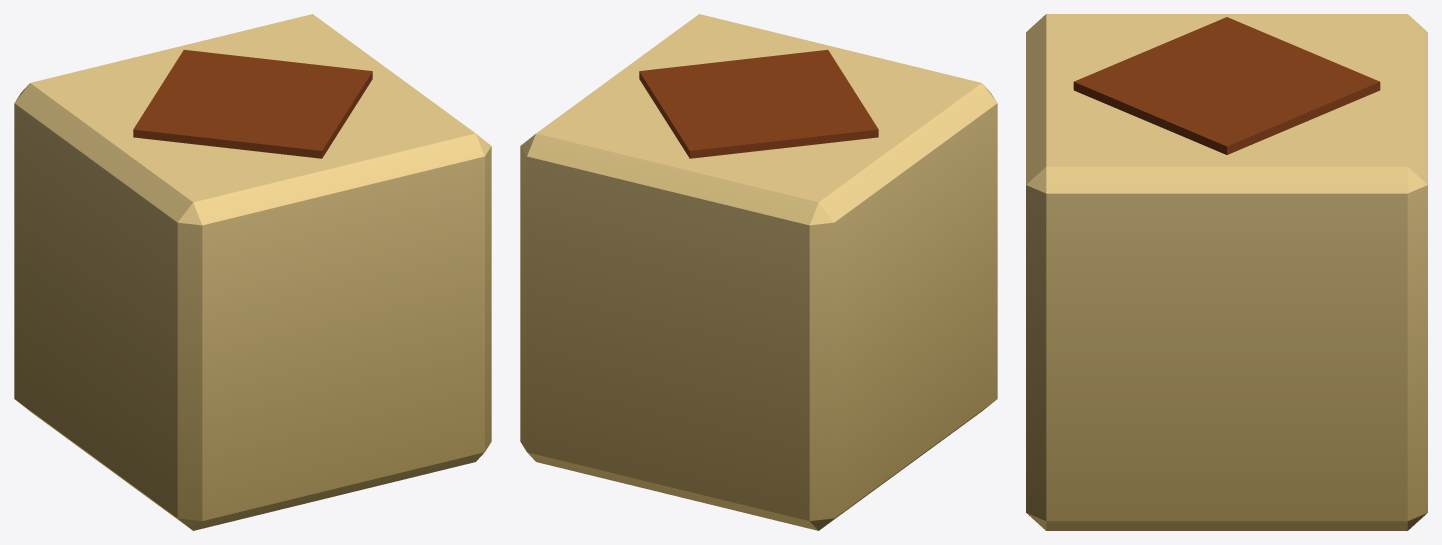
Rendered from Tile_PutihPlate.fbx.
The picture shows the model from 3 angles, left to right: view 1: azimuth 30°, elevation 25°; view 2: azimuth 150°, elevation 25°; view 3: azimuth 270°, elevation 25°; orthographic projection. The views are drawn at different scales.
Parts seen in each view (by area): view 1: Tile Putih Plate; view 2: Tile Putih Plate; view 3: Tile Putih Plate.
Part boxes in pixels (x1,y1,x2,y2): Tile Putih Plate: (14,14,491,530); Tile Putih Plate: (520,14,997,530); Tile Putih Plate: (1026,14,1427,530).
Size of the model in its own units: 1 by 1.02 by 1.
1 material, 1 textured.
